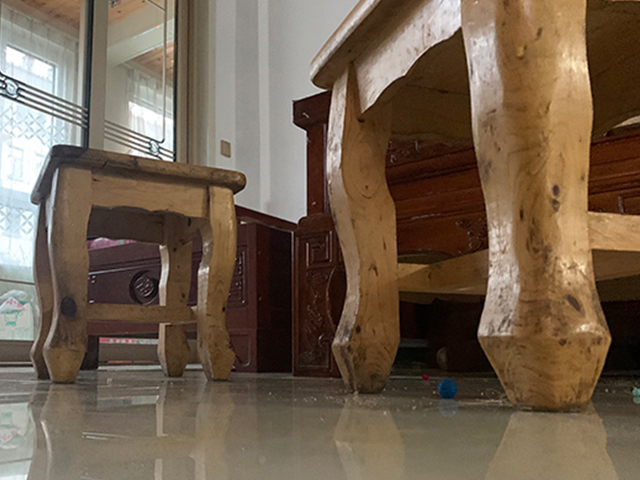stool: (308, 1, 640, 416), (28, 143, 249, 385)
